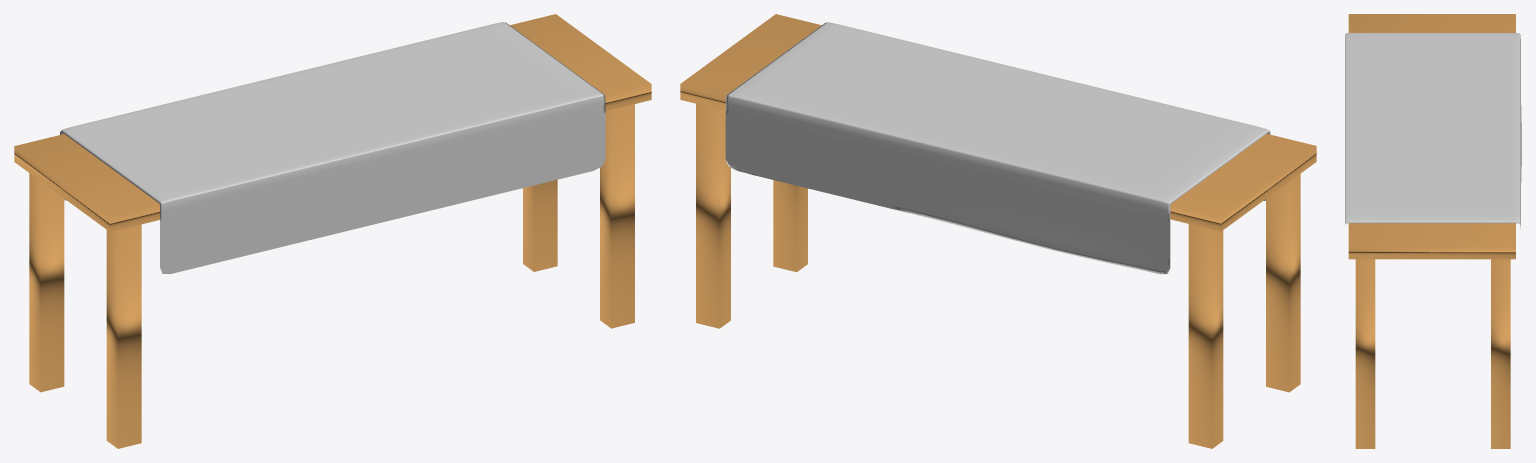
File: table.fbx
3 views of the same model, side by side, from view 1: azimuth 30°, elevation 25°; view 2: azimuth 150°, elevation 25°; view 3: azimuth 270°, elevation 25° (orthographic). The views are drawn at different scales.
Visible parts, largest first — view 1: nape, table; view 2: nape, table; view 3: nape, table.
Boxes of the visible parts, x1,y1,x2,y2 form: nape: (60, 22, 605, 274); table: (14, 14, 651, 448); nape: (725, 22, 1270, 274); table: (680, 14, 1316, 448); nape: (1345, 33, 1521, 228); table: (1348, 14, 1515, 448).
Size of the model in its own units: 11.81 by 5.05 by 3.81.
